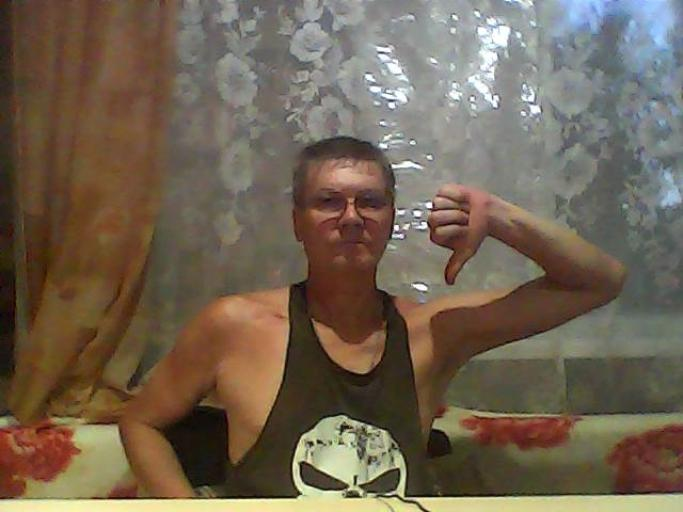dislike: (425, 180, 491, 288)
